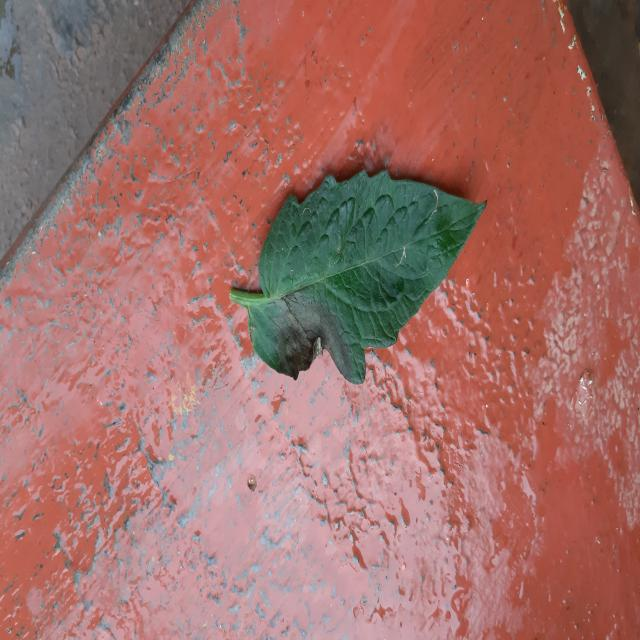defectedtomato: (230, 287, 385, 384)
tomato: (230, 171, 485, 384)
